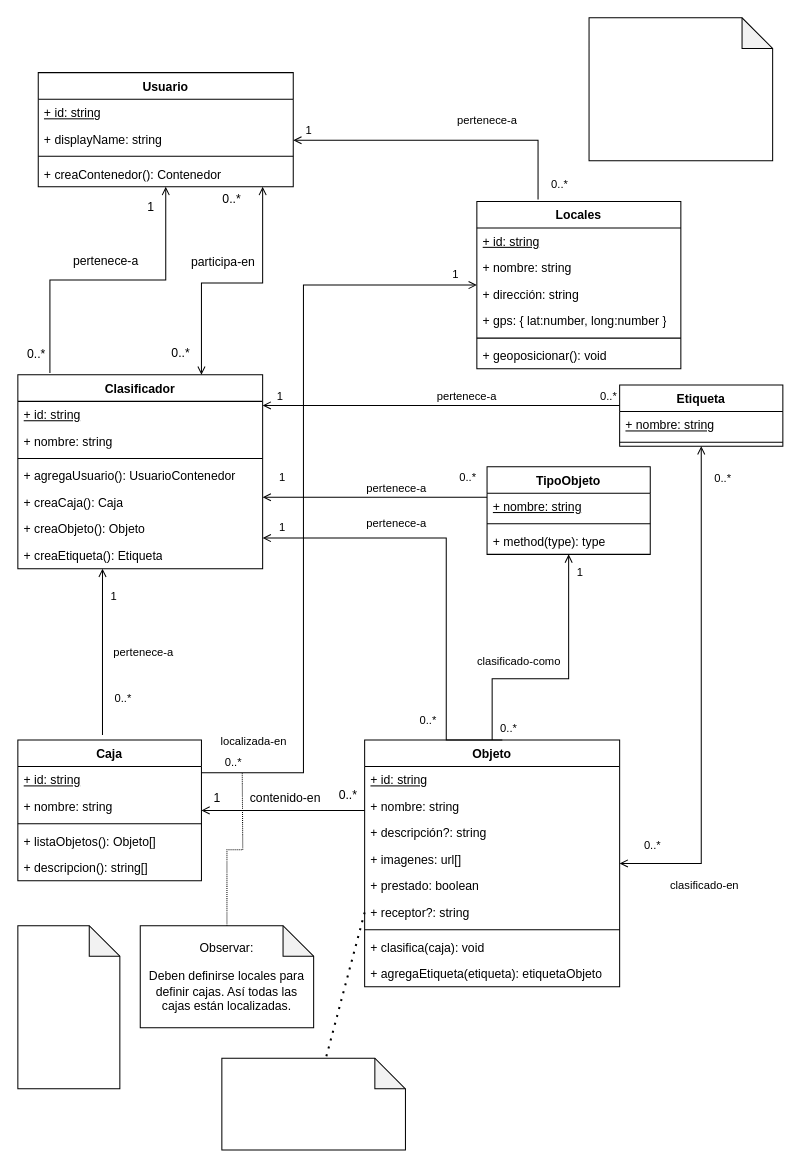
Some shapes in this 801 by 1168 pixel diagram are drawn without their labels. Here are the shapes that lost their labels. From the top down, the centre of each, then its label:
point (680, 89): Diagrama de clases genérico. Permite extraer ER/JSON/ORM
point (68, 1007): Diferentes campos según el tipo de objeto, que se deja como mejora
point (313, 1103): { receptor definido si solo si prestado }
